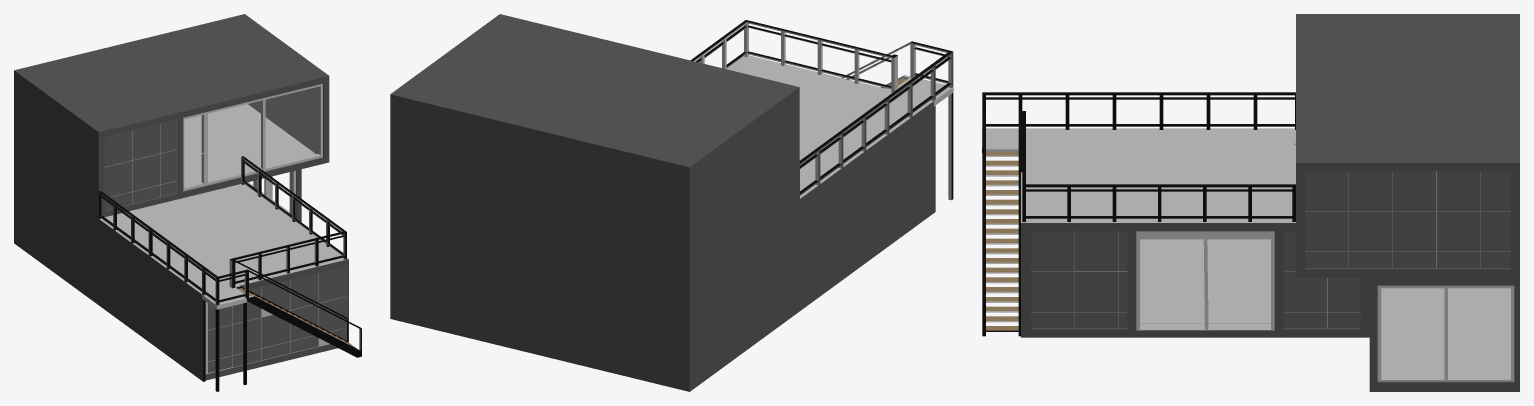
The model's file is container i 3d (1).glb.
3 renders of one model, left to right at view 1: azimuth 30°, elevation 25°; view 2: azimuth 150°, elevation 25°; view 3: azimuth 270°, elevation 25°, orthographic. The views are drawn at different scales.
Parts seen in each view (by area): view 1: Solid1; view 2: Solid1; view 3: Solid1.
Boxes of the visible parts, x1,y1,x2,y2 form: Solid1: (14,14,361,391); Solid1: (390,14,953,391); Solid1: (982,14,1519,391).
Bounding box in the file's own units: 9.76 × 6.99 × 14.87.
Materials: 6 (1 with a texture image).
